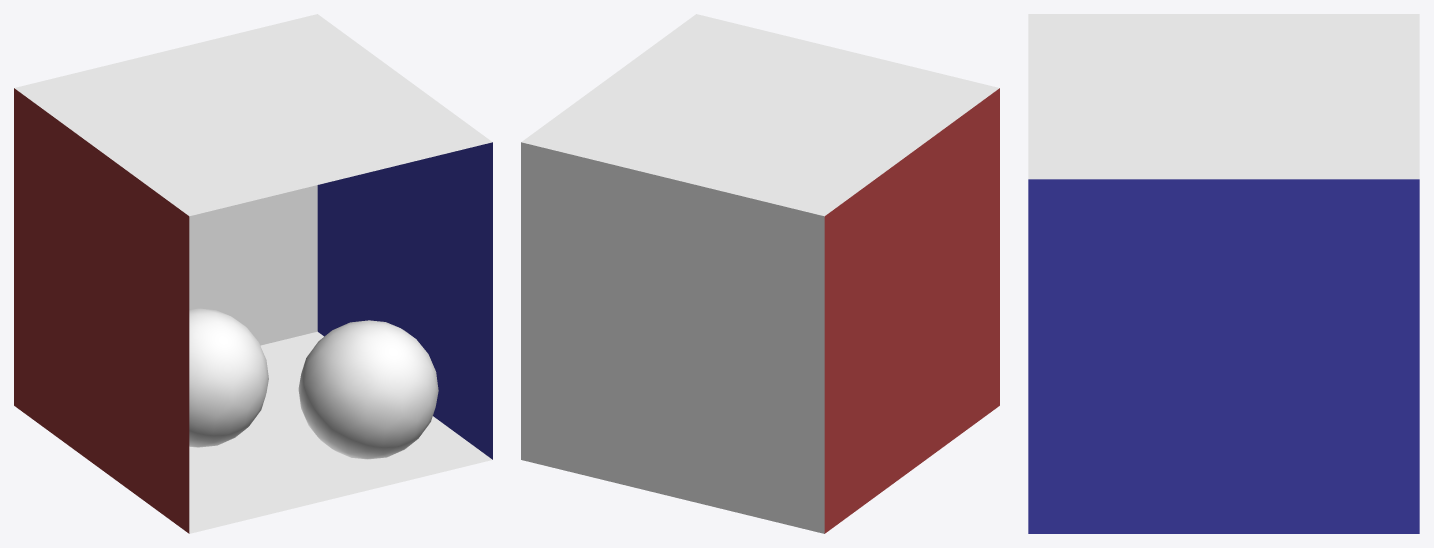
The model's file is cbox_lambertian.dae.
3 renders of one model, left to right at view 1: azimuth 30°, elevation 25°; view 2: azimuth 150°, elevation 25°; view 3: azimuth 270°, elevation 25°, orthographic. The views are drawn at different scales.
Visible parts, largest first — view 1: Square-S3D-13, Square-S3D-15, Square-S3D-14, Square-S3D-17, Square-S3D-16, Object_19-S3D-19-SMOOTHED, Object_18-S3D-18-SMOOTHED; view 2: Square-S3D-16, Square-S3D-13, Square-S3D-15; view 3: Square-S3D-14, Square-S3D-15.
Boxes of the visible parts, bbox=[...] form: Square-S3D-13: bbox=[14, 88, 189, 533]; Square-S3D-15: bbox=[14, 14, 492, 216]; Square-S3D-14: bbox=[317, 142, 492, 459]; Square-S3D-17: bbox=[189, 331, 492, 533]; Square-S3D-16: bbox=[189, 185, 317, 345]; Object_19-S3D-19-SMOOTHED: bbox=[298, 320, 438, 459]; Object_18-S3D-18-SMOOTHED: bbox=[189, 308, 268, 447]; Square-S3D-16: bbox=[521, 142, 824, 533]; Square-S3D-13: bbox=[824, 88, 999, 533]; Square-S3D-15: bbox=[521, 14, 999, 216]; Square-S3D-14: bbox=[1028, 179, 1419, 533]; Square-S3D-15: bbox=[1028, 14, 1419, 179].
Size of the model in its own units: 1 by 1 by 1.
